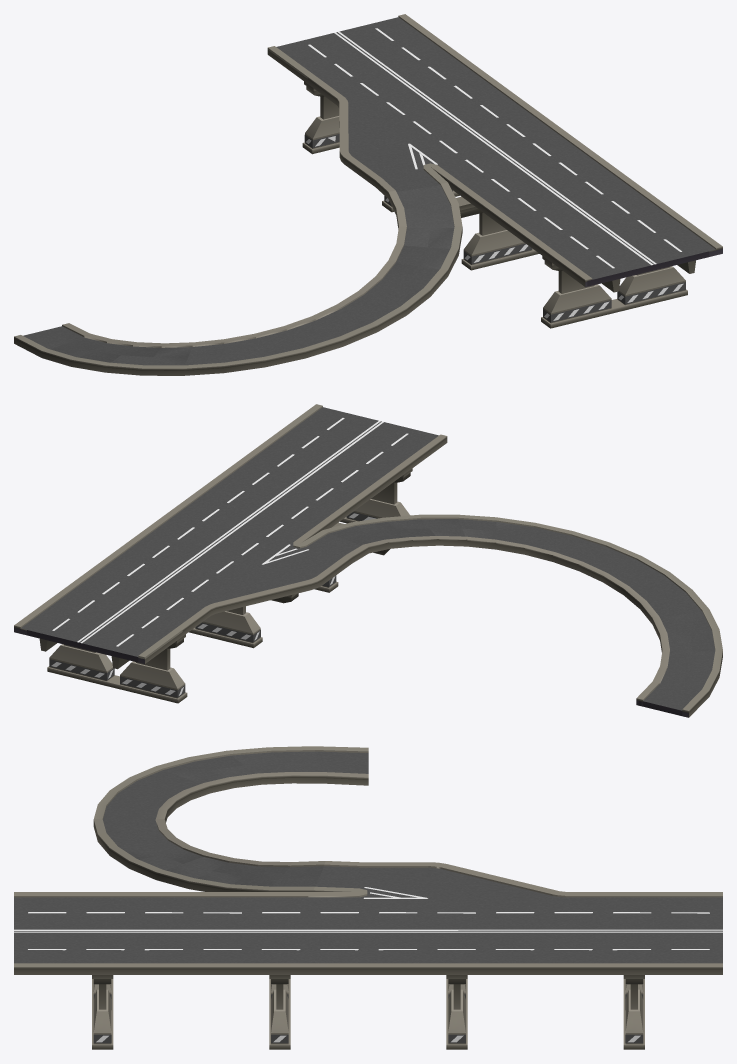
The picture shows the model from 3 angles, top to bottom: view 1: azimuth 30°, elevation 25°; view 2: azimuth 150°, elevation 25°; view 3: azimuth 270°, elevation 25°; orthographic projection. The views are drawn at different scales.
Visible parts, largest first — view 1: Highway_1D; view 2: Highway_1D; view 3: Highway_1D.
Part boxes in pixels (bbox=[...]): Highway_1D: bbox=[14, 14, 722, 375]; Highway_1D: bbox=[14, 404, 722, 717]; Highway_1D: bbox=[14, 746, 722, 1049].
Bounding box in the file's own units: 99659 × 13703 × 99659.
